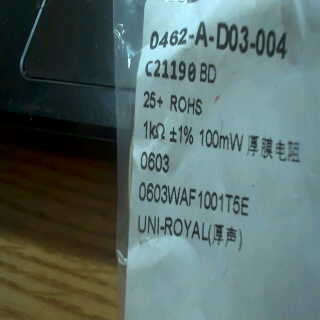1kR: (140, 121, 168, 144)
